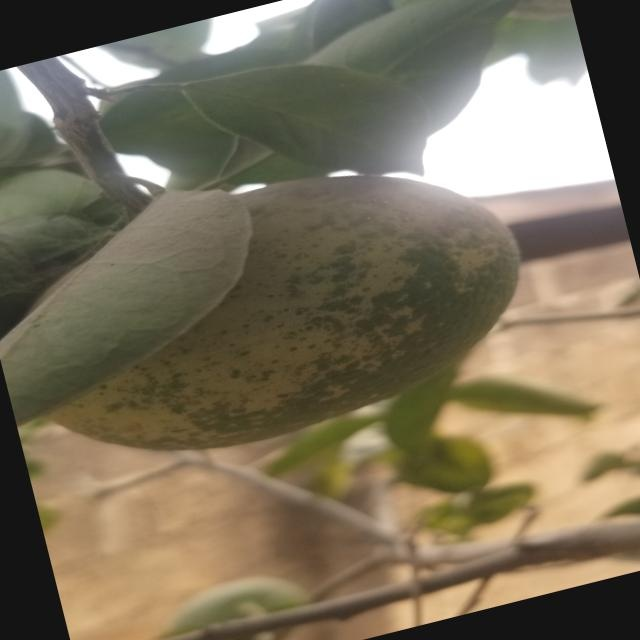agrume: (1, 133, 550, 491)
